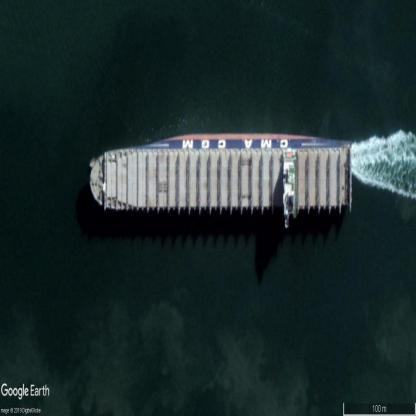ship: (90, 132, 351, 228)
